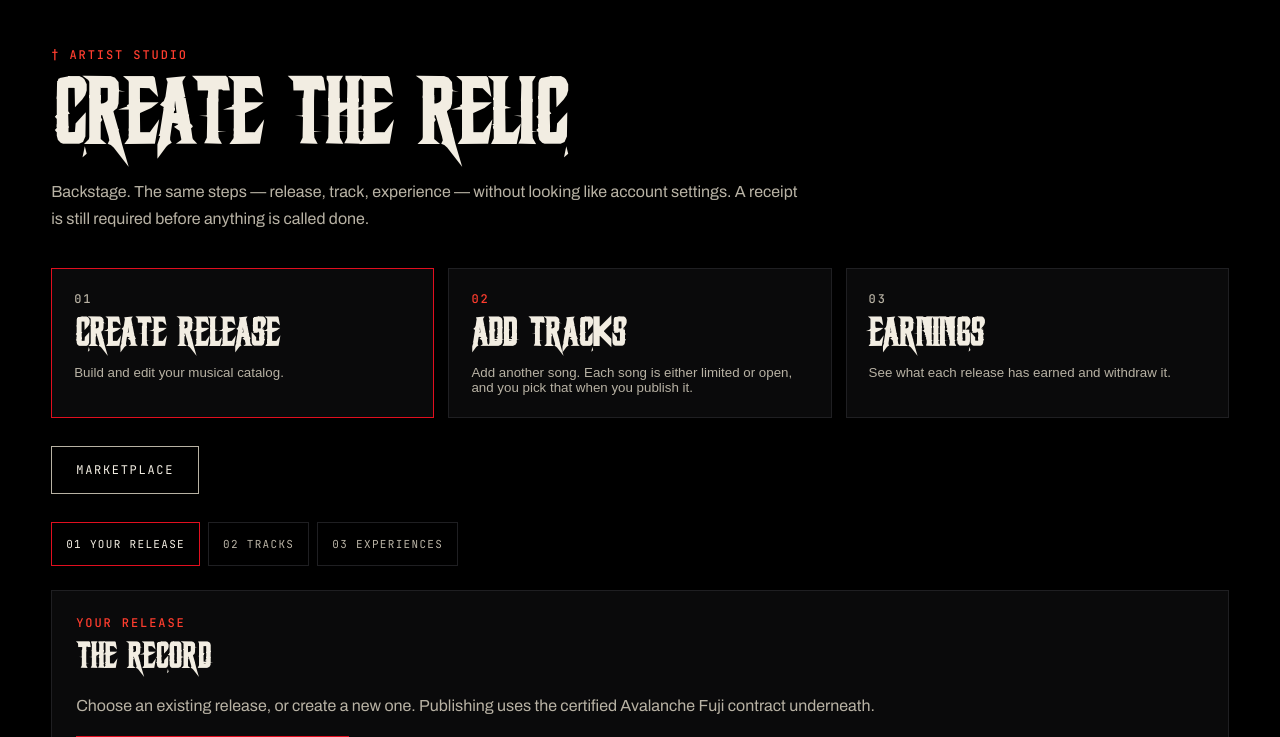
Scenario: Studio has no already-uploaded file pickers › does not ask the server for the artist's earlier uploads
Click the button "02 Tracks" at (259, 544), box [208,522,309,566]
(page scrolled)
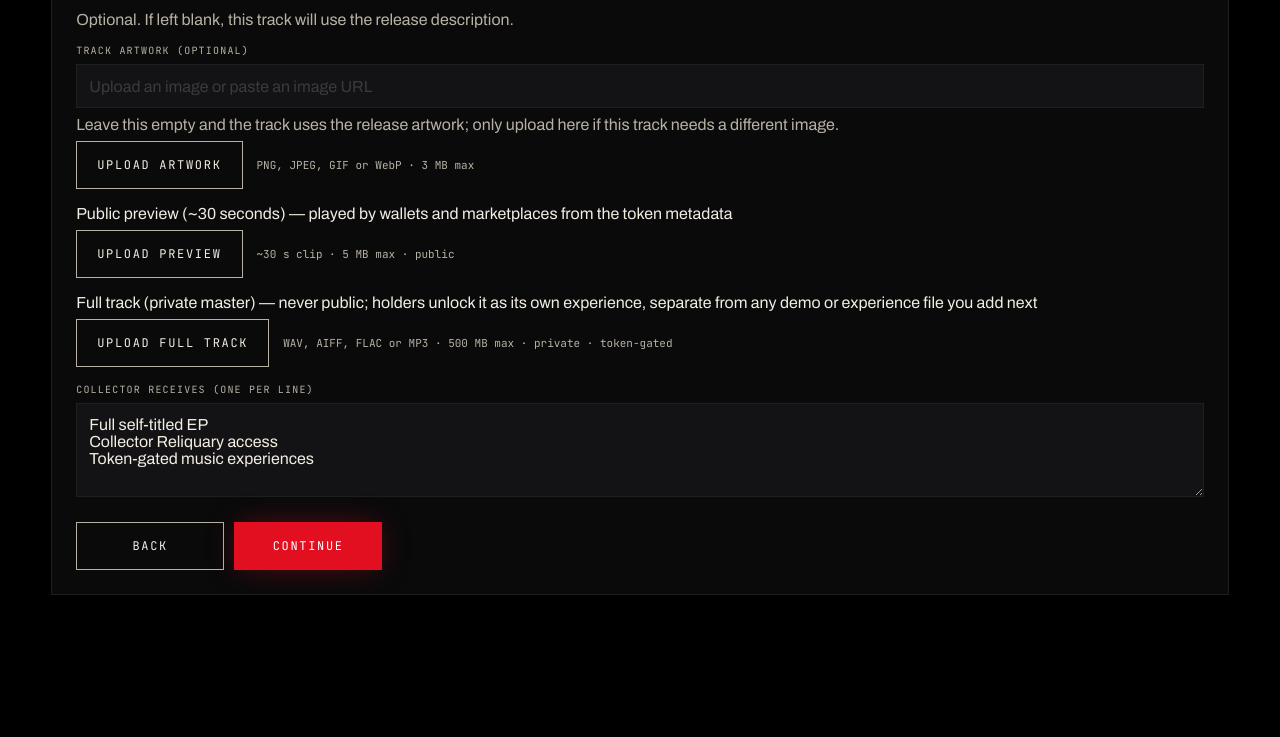
Now the file field "Upload full track" is shown, box [76,319,269,367]
